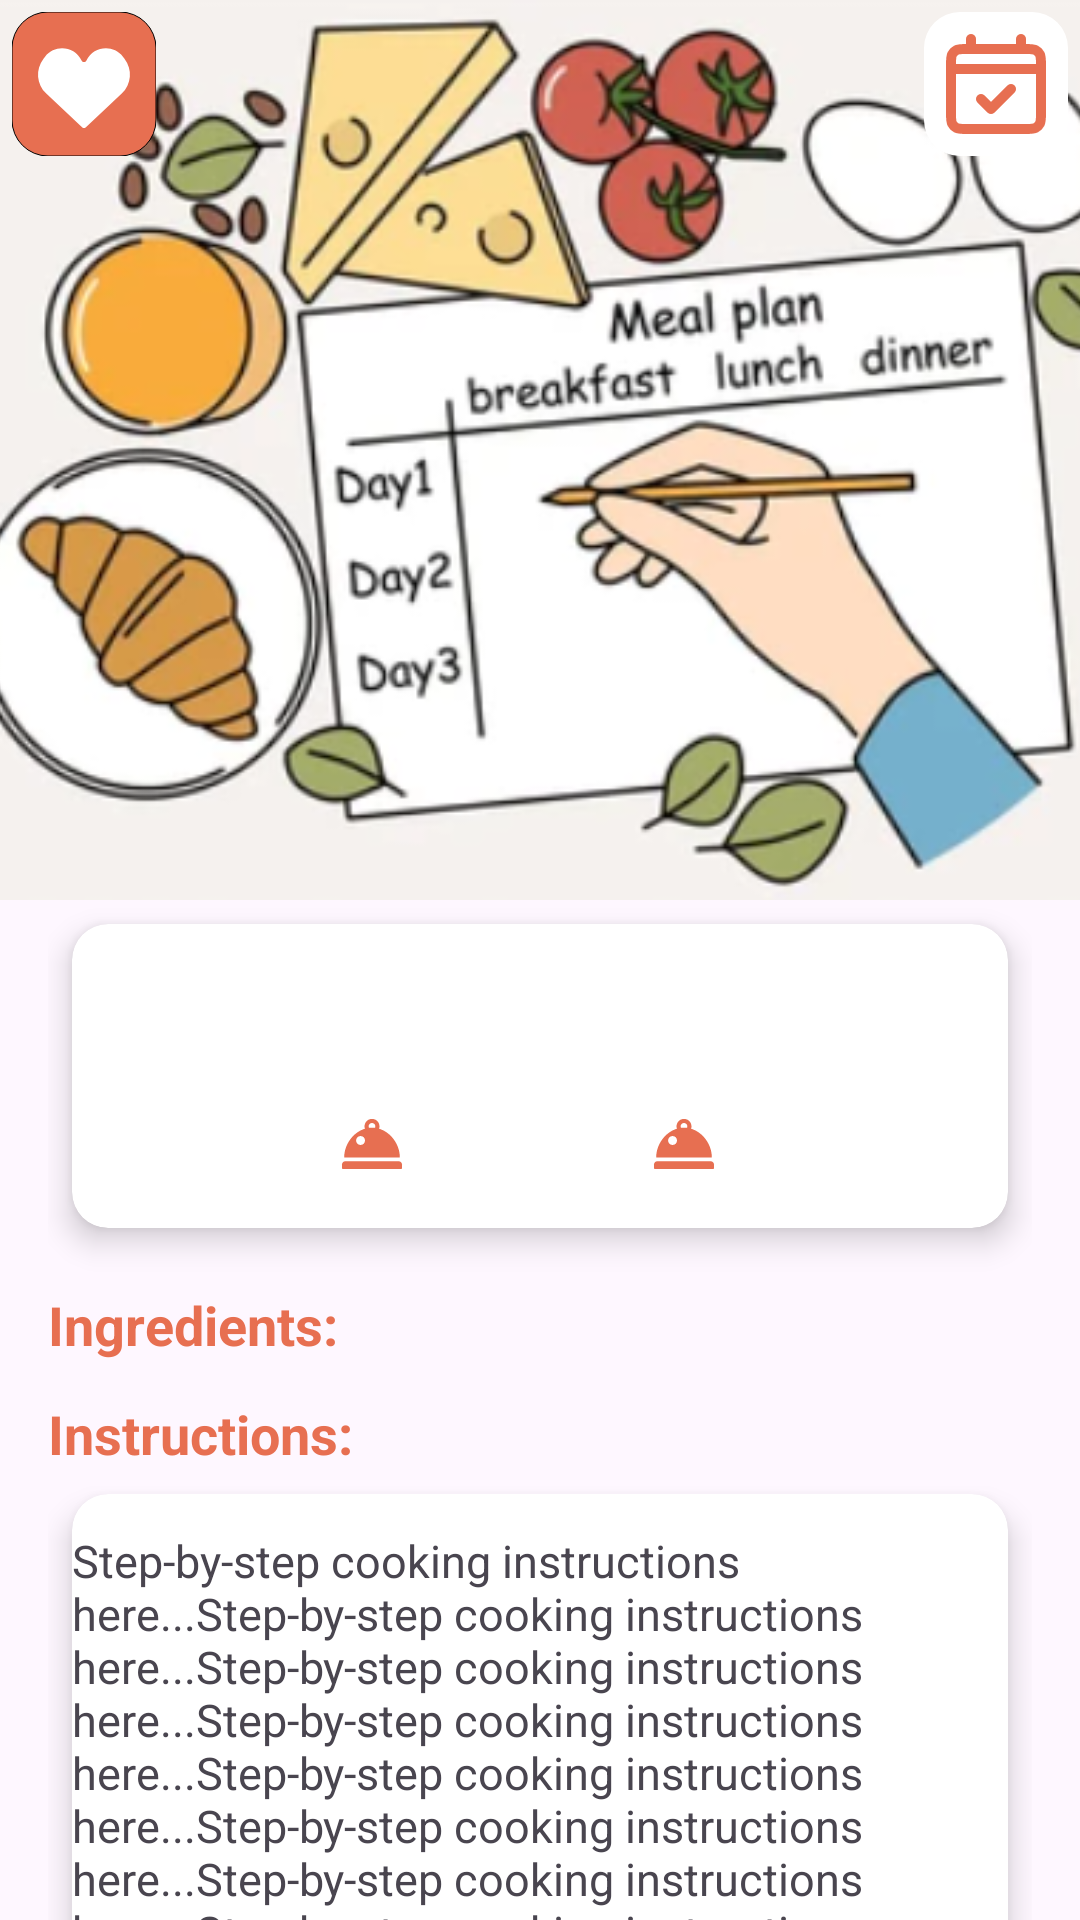

Named icons in this screenshot (1080*1920) and their centers, point (x, y):
category: point (372, 1144), point (684, 1144)
fav: point (84, 84)
meal calendar: point (996, 84)
